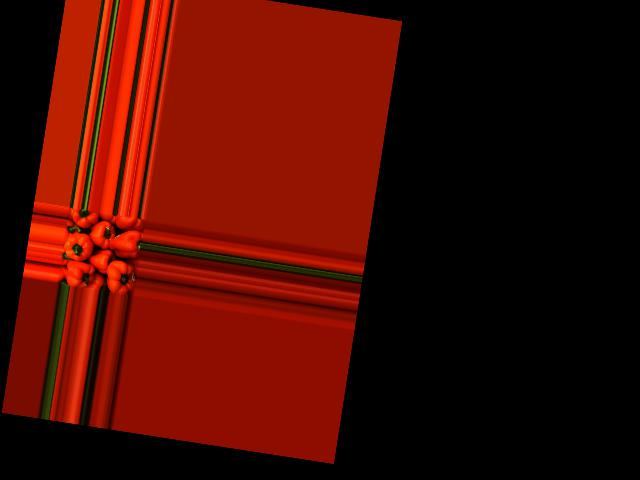bell_pepper: (113, 215, 146, 232)
